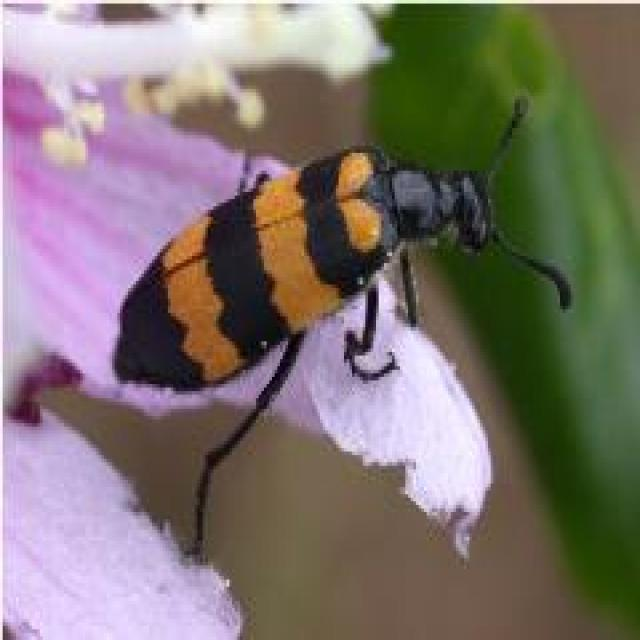BlisterBeetle-Adult-: (102, 83, 586, 450)
